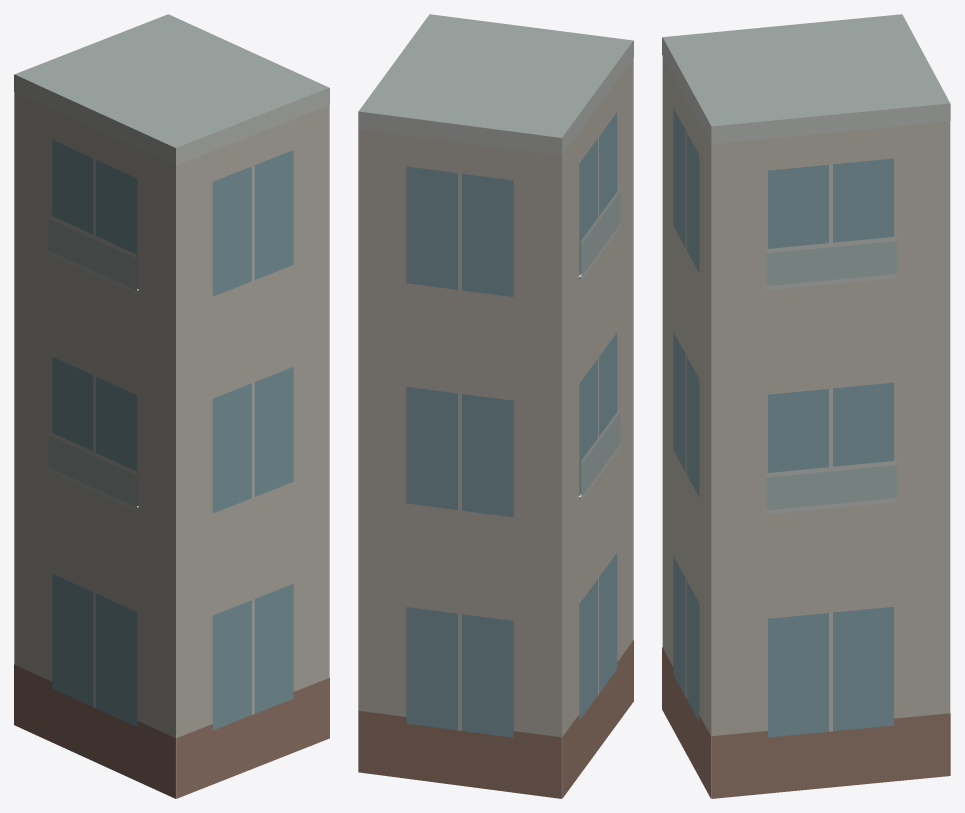
File: survey-upis-32470407.glb
The picture shows the model from 3 angles, left to right: view 1: azimuth 30°, elevation 25°; view 2: azimuth 150°, elevation 25°; view 3: azimuth 270°, elevation 25°; orthographic projection. The views are drawn at different scales.
Parts seen in each view (by area): view 1: survey-upis-32470407.tmp; view 2: survey-upis-32470407.tmp; view 3: survey-upis-32470407.tmp.
Part boxes in pixels (<box>): survey-upis-32470407.tmp: <box>14,14,329,798</box>; survey-upis-32470407.tmp: <box>358,14,633,798</box>; survey-upis-32470407.tmp: <box>662,14,950,798</box>.
Bounding box in the file's own units: 3.29 × 9.15 × 3.56.
